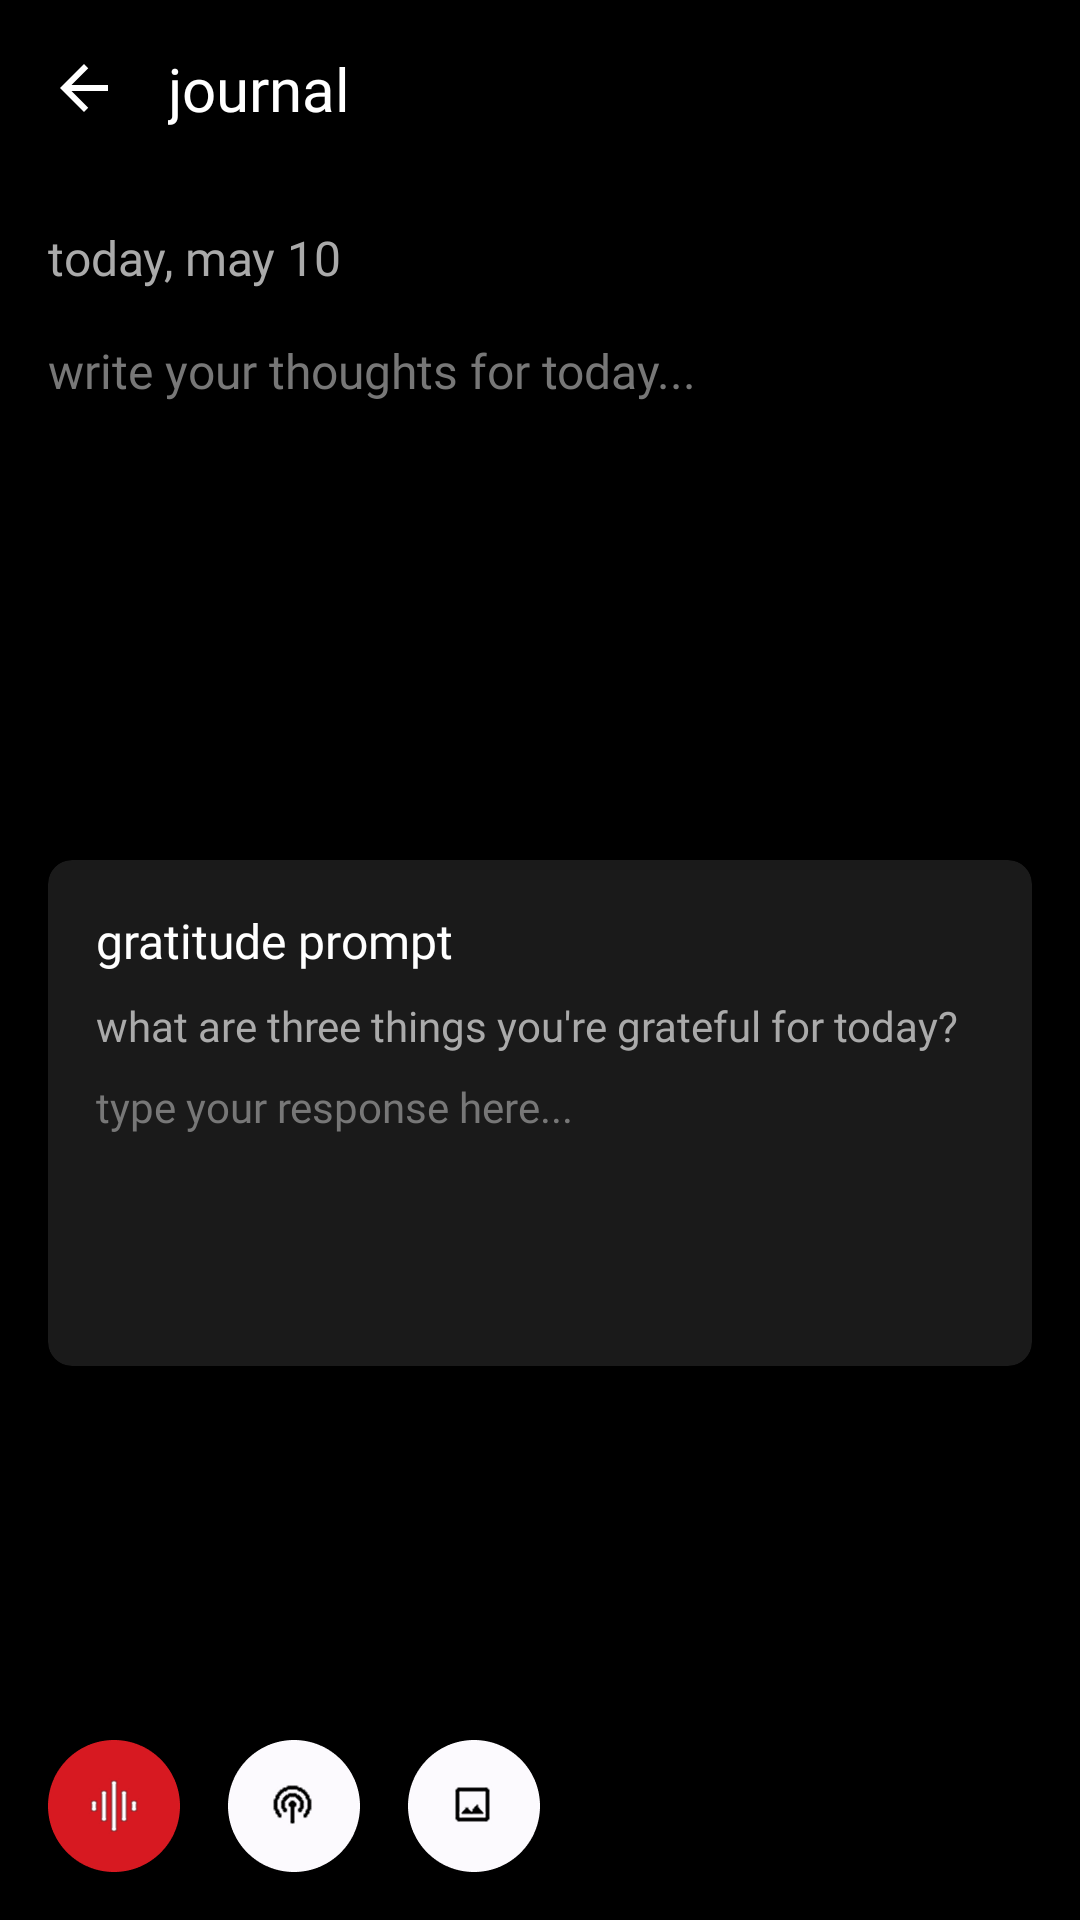

Screen size 1080px x 1920px. Icon name, then its box in pixels as [left=x1, top=y1, right=x2, bottom=y2]:
Attach Image: [left=408, top=1740, right=540, bottom=1872]
Back: [left=60, top=64, right=108, bottom=112]
Voice Input: [left=48, top=1740, right=180, bottom=1872]
